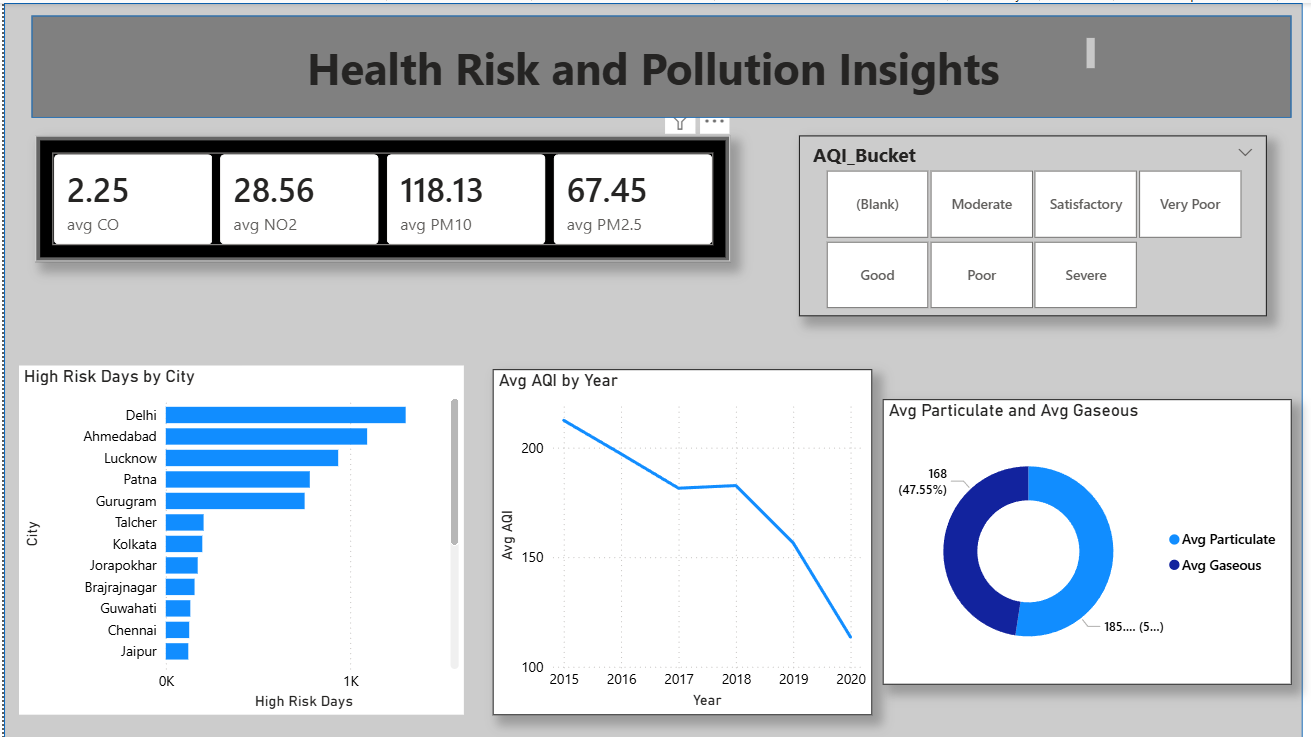

Layout of this report page (visuals, bound fields, positions):
{"tool":"powerbi","page":{"name":"Health risk","canvas":[1280,720],"ordinal":1},"visuals":[{"type":"shape","box":[0,0,1270.5,720.2],"z":0},{"type":"cardVisual","fields":{"Data":["Data.avg CO","Data.avg NO2","Data.avg PM10","Data.avg PM2.5"]},"box":[30.7,129.1,680.1,124.2],"z":1000},{"type":"shape","box":[26.9,12.2,1232.6,100.3],"z":2000},{"type":"textbox","box":[205.4,29.3,867,67.3],"z":3000},{"type":"barChart","fields":{"Category":["Data.City"],"Y":["Data.High Risk Days"]},"box":[14.8,354.2,435.4,341.9],"z":4000},{"type":"lineChart","fields":{"Category":["Data.Date.Variation.Date Hierarchy.Year","Data.Date.Variation.Date Hierarchy.Quarter","Data.Date.Variation.Date Hierarchy.Month","Data.Date.Variation.Date Hierarchy.Day"],"Y":["Data.Avg AQI"]},"box":[478.4,357.9,371.4,338.2],"z":5000},{"type":"slicer","fields":{"Values":["Data.AQI_Bucket"]},"box":[777.3,129.1,457.5,177.1],"z":6000},{"type":"donutChart","fields":{"Y":["Data.Avg Particulate","Data.Avg Gaseous"]},"box":[859.6,387.4,399.7,279.2],"z":8000}]}

Visuals, with their boxes on the page's 1280x720 design canvas (x1, y1, x2, y2). These are canvas units, not pixel positions in the 1311x737 screenshot, which may show the page scaled, cropped or inside an application window:
shape: 0,0,1270,720
cardVisual - Data.avg CO x Data.avg NO2: 31,129,711,253
shape: 27,12,1260,112
textbox: 205,29,1072,97
barChart - Data.City x Data.High Risk Days: 15,354,450,696
lineChart - Data.Date.Variation.Date Hierarchy.Year x Data.Date.Variation.Date Hierarchy.Quarter: 478,358,850,696
slicer - Data.AQI_Bucket: 777,129,1235,306
donutChart - Data.Avg Particulate x Data.Avg Gaseous: 860,387,1259,667
